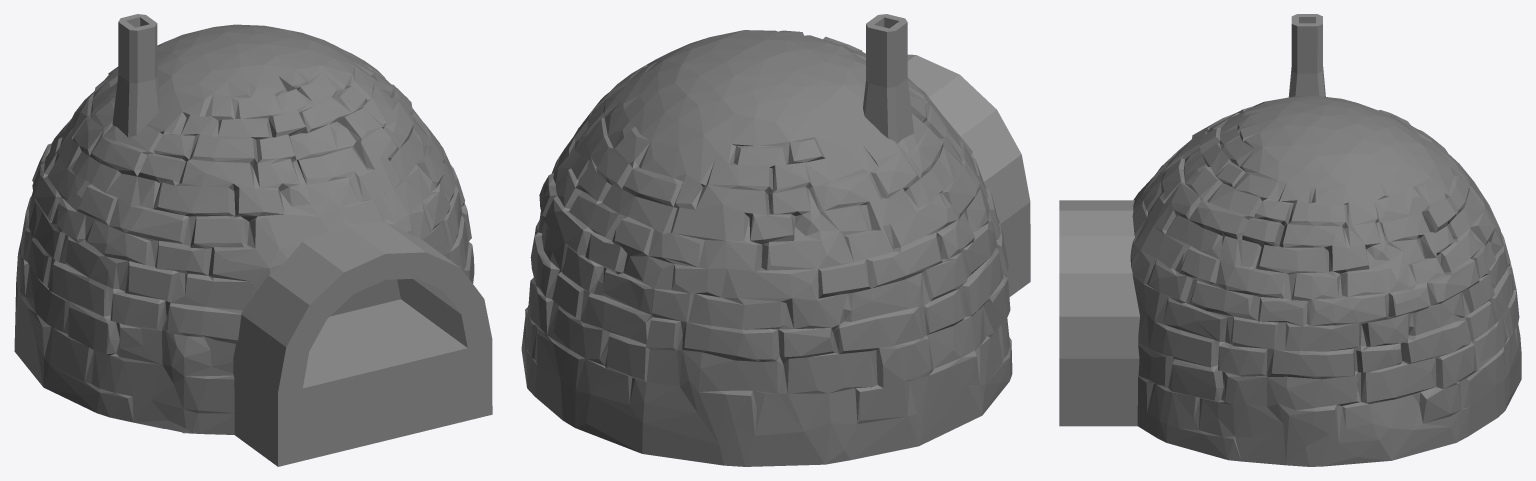
File: oven_b.FBX
The picture shows the model from 3 angles, left to right: view 1: azimuth 30°, elevation 25°; view 2: azimuth 150°, elevation 25°; view 3: azimuth 270°, elevation 25°; orthographic projection. The views are drawn at different scales.
Visible parts, largest first — view 1: oven_b; view 2: oven_b; view 3: oven_b.
Boxes of the visible parts, left/top/right/bottom form: oven_b: left=14, top=14, right=492, bottom=466; oven_b: left=521, top=14, right=1030, bottom=466; oven_b: left=1059, top=14, right=1521, bottom=466.
Bounding box in the file's own units: 1.96 × 1.6 × 2.16.
